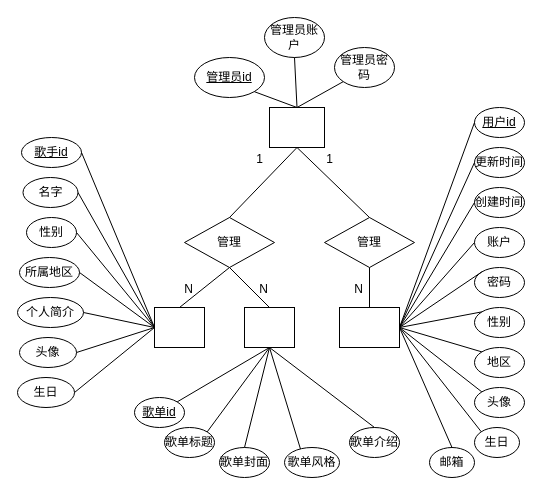
Image size: 542x495. Some labels were removed from this diagram. Here are the shapes that lost their labels. From the top down, the centre of each, then its label:
At (x=296, y=127): "管理员".
At (x=179, y=327): "歌手".
At (x=269, y=327): "歌单".
At (x=369, y=327): "前台用户".
